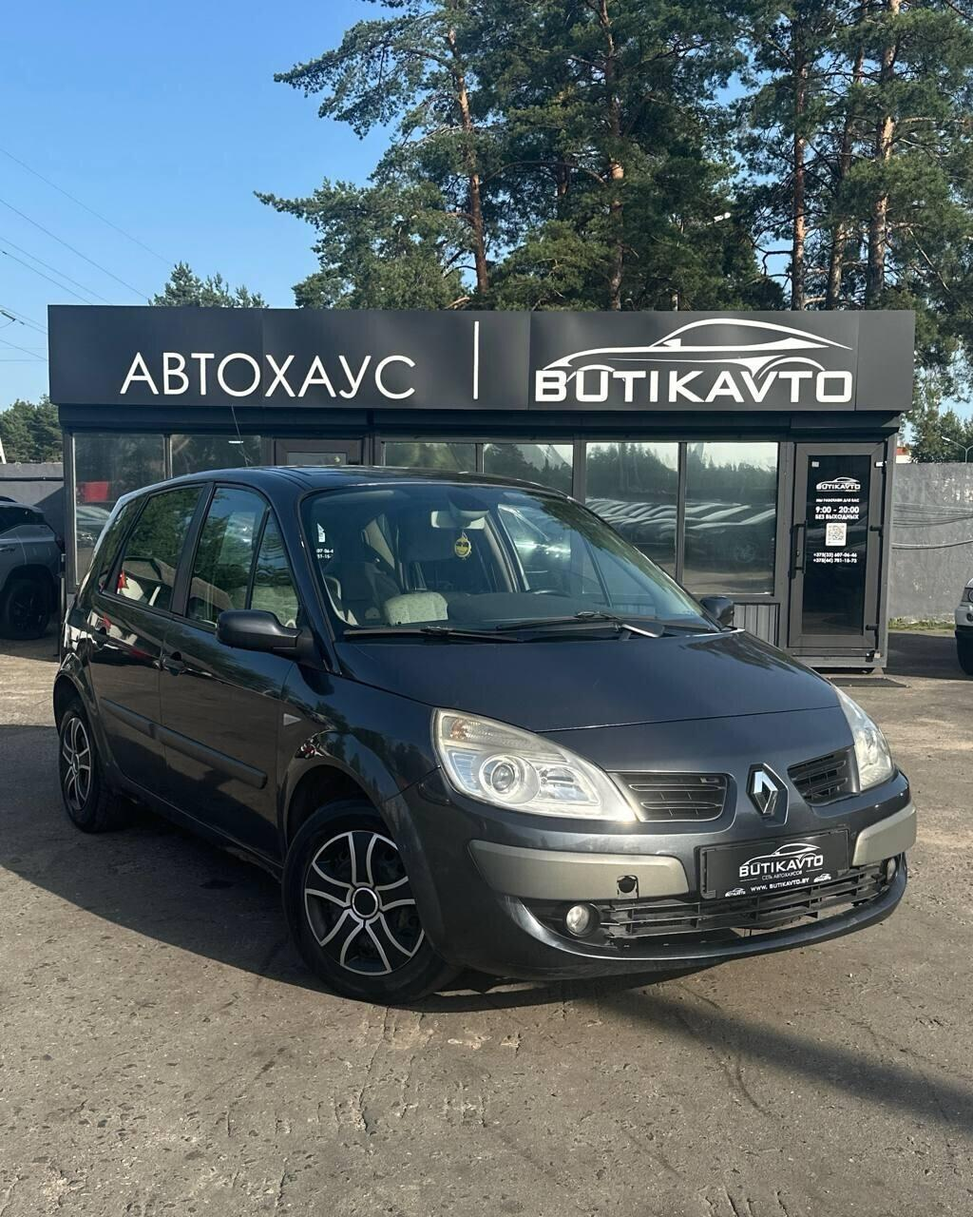Megane_2005-2009: (40, 455, 925, 1006)
